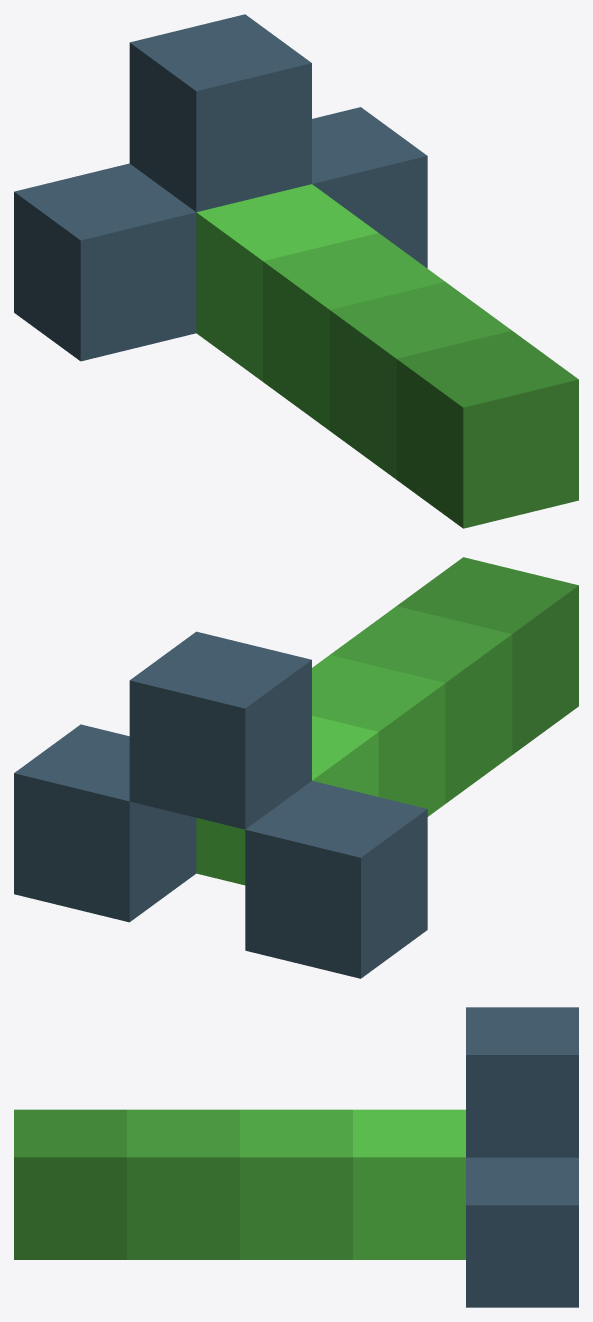
File: big_floors_vial.obj
3 views of the same model, one above another, from view 1: azimuth 30°, elevation 25°; view 2: azimuth 150°, elevation 25°; view 3: azimuth 270°, elevation 25° (orthographic). The views are drawn at different scales.
Bounding box in the file's own units: 3 × 2 × 5.
1 material, 1 textured.
